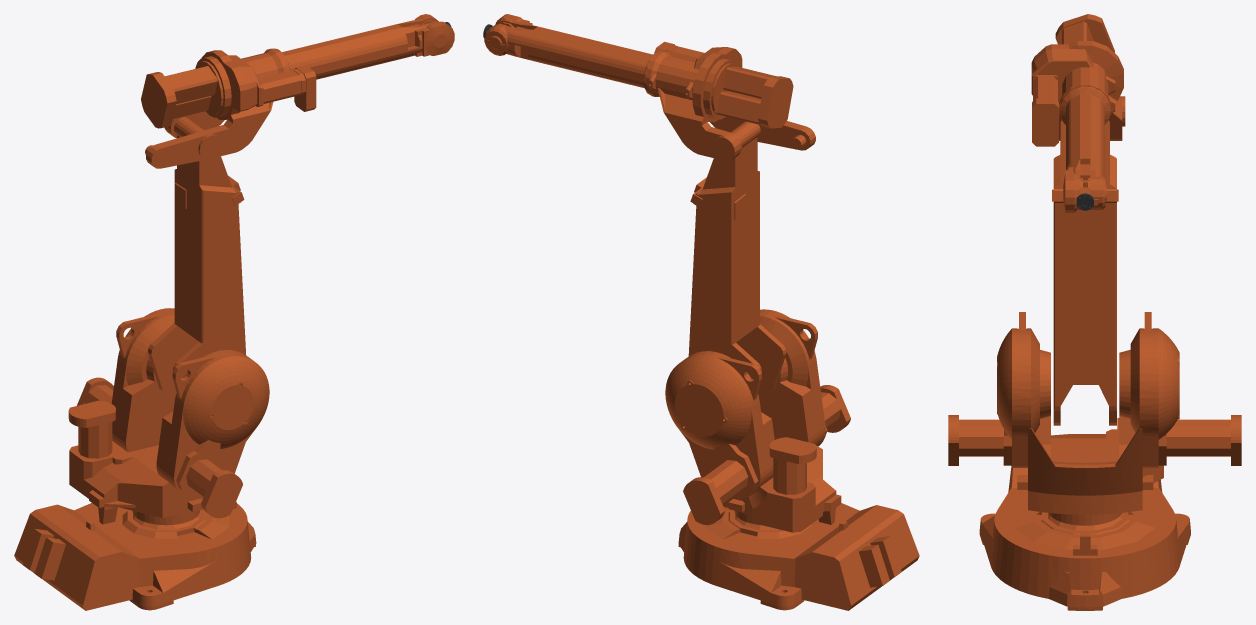
Rendered from irb2400.dae.
The picture shows the model from 3 angles, left to right: view 1: azimuth 30°, elevation 25°; view 2: azimuth 150°, elevation 25°; view 3: azimuth 270°, elevation 25°; orthographic projection. The views are drawn at different scales.
Parts seen in each view (by area): view 1: link_1, base_link, link_2, link_3, link_4; view 2: link_1, base_link, link_2, link_3, link_4; view 3: link_1, base_link, link_2, link_3, link_4.
Part boxes in pixels (x1,y1,x2,y2): link_1: (68,308,269,525); base_link: (14,502,256,610); link_2: (148,117,246,396); link_3: (141,48,316,168); link_4: (274,14,454,79); link_1: (665,309,850,532); base_link: (678,503,919,610); link_2: (688,121,786,397); link_3: (646,41,815,161); link_4: (484,14,659,94); link_1: (948,312,1241,525); base_link: (979,465,1190,610); link_2: (1052,120,1118,425); link_3: (1031,14,1125,146); link_4: (1059,86,1110,212).
Size of the model in its own units: 1.51 by 0.833 by 1.73.
